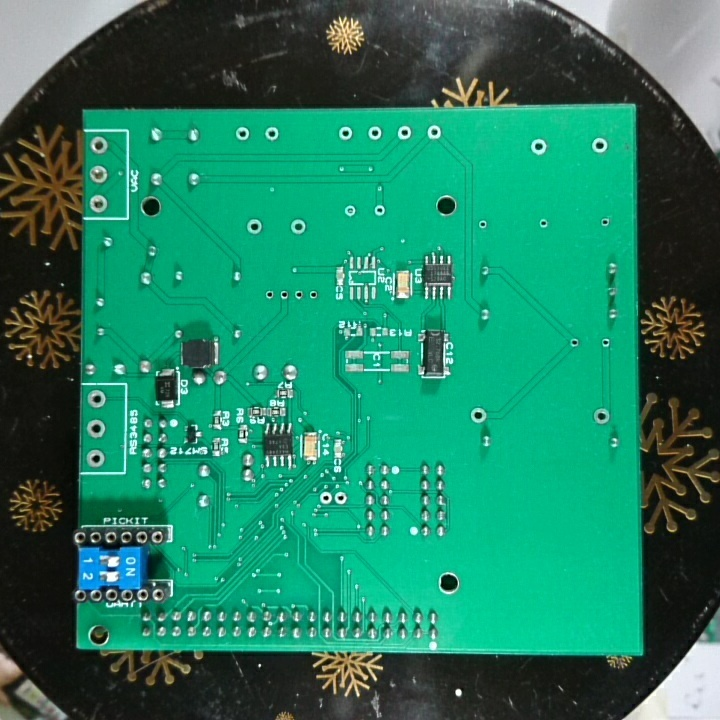F: (84, 418, 108, 442), (85, 387, 108, 412), (85, 446, 109, 469), (87, 163, 111, 186), (88, 133, 110, 157), (588, 135, 611, 157), (88, 192, 109, 215), (467, 403, 488, 426), (590, 405, 612, 426), (244, 217, 266, 237), (334, 124, 357, 143), (287, 217, 308, 237), (528, 137, 548, 158), (234, 123, 253, 145), (424, 122, 445, 141), (394, 123, 413, 142), (365, 122, 382, 143), (262, 125, 281, 143), (341, 202, 359, 220), (316, 489, 333, 507), (371, 201, 387, 220), (333, 490, 349, 509), (536, 215, 551, 233), (277, 285, 291, 303), (292, 286, 306, 304), (567, 335, 582, 351), (262, 286, 276, 303), (476, 216, 490, 232), (306, 286, 319, 303), (598, 336, 612, 350), (598, 215, 611, 230)
